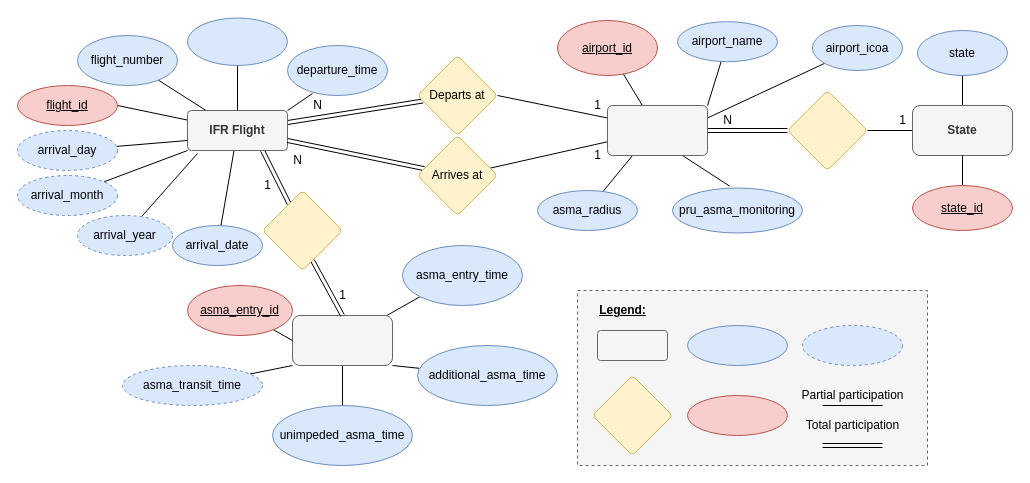
Some shapes in this 1030 by 483 pixel diagram are drawn without their labels. The box of each missing label's shape, as (x1, y1, x2, y2) in pixels:
Airport: (606, 104, 708, 156)
arrival_time: (186, 17, 288, 66)
ASMA Entry: (292, 314, 392, 366)
Attribute: (686, 324, 788, 366)
Derived Attribute: (802, 324, 902, 366)
Entity: (596, 330, 668, 360)
Has: (262, 190, 342, 270)
Key Attribute: (686, 394, 788, 436)
Located in: (786, 90, 868, 170)
Relationship: (592, 374, 672, 456)
